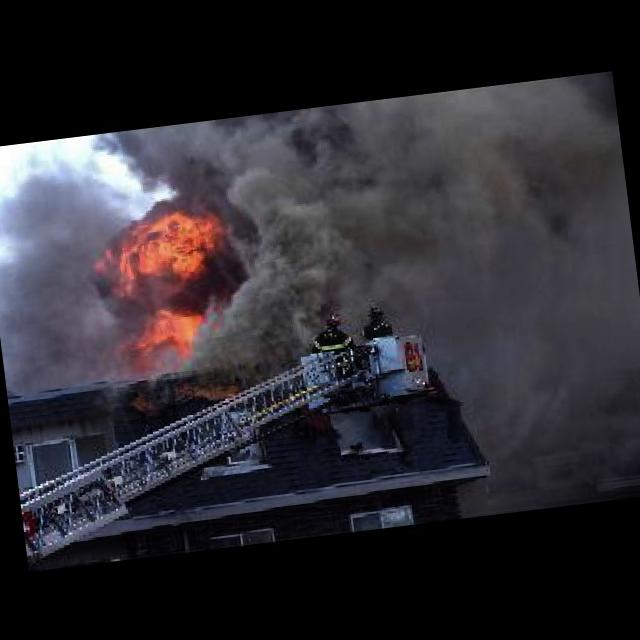fire: (202, 141, 356, 336), (94, 193, 240, 370)
